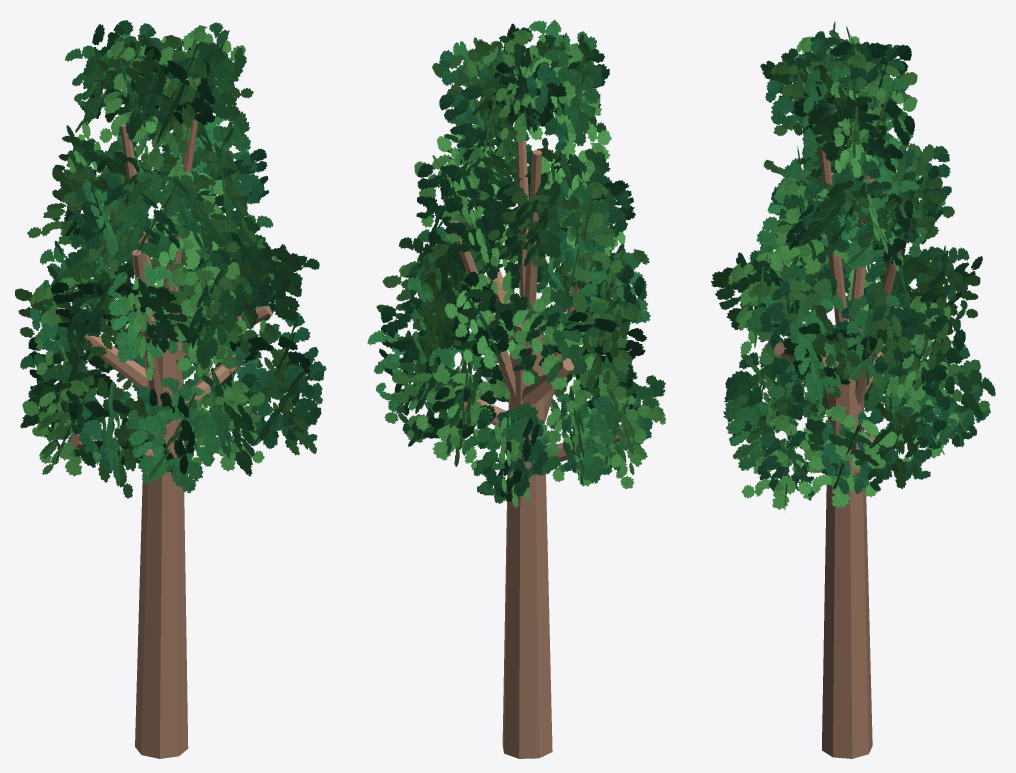
The model's file is RedWood.glb.
3 renders of one model, left to right at view 1: azimuth 30°, elevation 25°; view 2: azimuth 150°, elevation 25°; view 3: azimuth 270°, elevation 25°, orthographic. The views are drawn at different scales.
Visible parts, largest first — view 1: Trunk, FoliageCard_07_03, FoliageCard_07_00, FoliageCard_16_00, FoliageCard_17_03, FoliageCard_17_02, FoliageCard_17_00, FoliageCard_09_00, FoliageCard_32_00, FoliageCard_25_00, FoliageCard_05_03, FoliageCard_06_02 (+70 smaller); view 2: Trunk, FoliageCard_02_00, FoliageCard_03_01, FoliageCard_13_01, FoliageCard_31_00, FoliageCard_14_00, FoliageCard_31_01, FoliageCard_04_00, FoliageCard_13_00, FoliageCard_23_00, FoliageCard_03_00, FoliageCard_04_01 (+66 smaller); view 3: Trunk, FoliageCard_00_02, FoliageCard_08_02, FoliageCard_28_02, FoliageCard_20_02, FoliageCard_09_02, FoliageCard_27_02, FoliageCard_18_02, FoliageCard_01_02, FoliageCard_35_02, FoliageCard_10_01, FoliageCard_17_02 (+63 smaller).
Part boxes in pixels (<box>): Trunk: <box>135,313,188,758</box>; FoliageCard_07_03: <box>132,377,231,493</box>; FoliageCard_07_00: <box>125,387,215,483</box>; FoliageCard_16_00: <box>107,266,178,362</box>; FoliageCard_17_03: <box>166,263,252,369</box>; FoliageCard_17_02: <box>180,252,246,369</box>; FoliageCard_17_00: <box>167,262,247,371</box>; FoliageCard_09_00: <box>249,361,324,448</box>; FoliageCard_32_00: <box>99,41,173,143</box>; FoliageCard_25_00: <box>115,174,192,261</box>; FoliageCard_05_03: <box>22,380,102,476</box>; FoliageCard_06_02: <box>95,377,147,498</box>; Trunk: <box>502,321,552,758</box>; FoliageCard_02_00: <box>416,365,510,471</box>; FoliageCard_03_01: <box>462,402,561,503</box>; FoliageCard_13_01: <box>499,286,594,390</box>; FoliageCard_31_00: <box>533,49,602,146</box>; FoliageCard_14_00: <box>572,293,642,399</box>; FoliageCard_31_01: <box>514,43,611,155</box>; FoliageCard_04_00: <box>543,393,619,483</box>; FoliageCard_13_00: <box>509,288,587,384</box>; FoliageCard_23_00: <box>548,182,623,281</box>; FoliageCard_03_00: <box>477,408,547,496</box>; FoliageCard_04_01: <box>531,389,622,486</box>; Trunk: <box>822,325,872,758</box>; FoliageCard_00_02: <box>797,404,897,508</box>; FoliageCard_08_02: <box>723,381,810,470</box>; FoliageCard_28_02: <box>803,159,892,252</box>; FoliageCard_20_02: <box>839,179,927,269</box>; FoliageCard_09_02: <box>741,414,825,509</box>; FoliageCard_27_02: <box>770,179,844,274</box>; FoliageCard_18_02: <box>748,278,836,365</box>; FoliageCard_01_02: <box>859,404,934,480</box>; FoliageCard_35_02: <box>807,96,887,161</box>; FoliageCard_10_01: <box>841,288,911,386</box>; FoliageCard_17_02: <box>711,259,799,329</box>.
Bounding box in the file's own units: 4.39 × 10.11 × 3.86.
5 materials, 3 textured.
